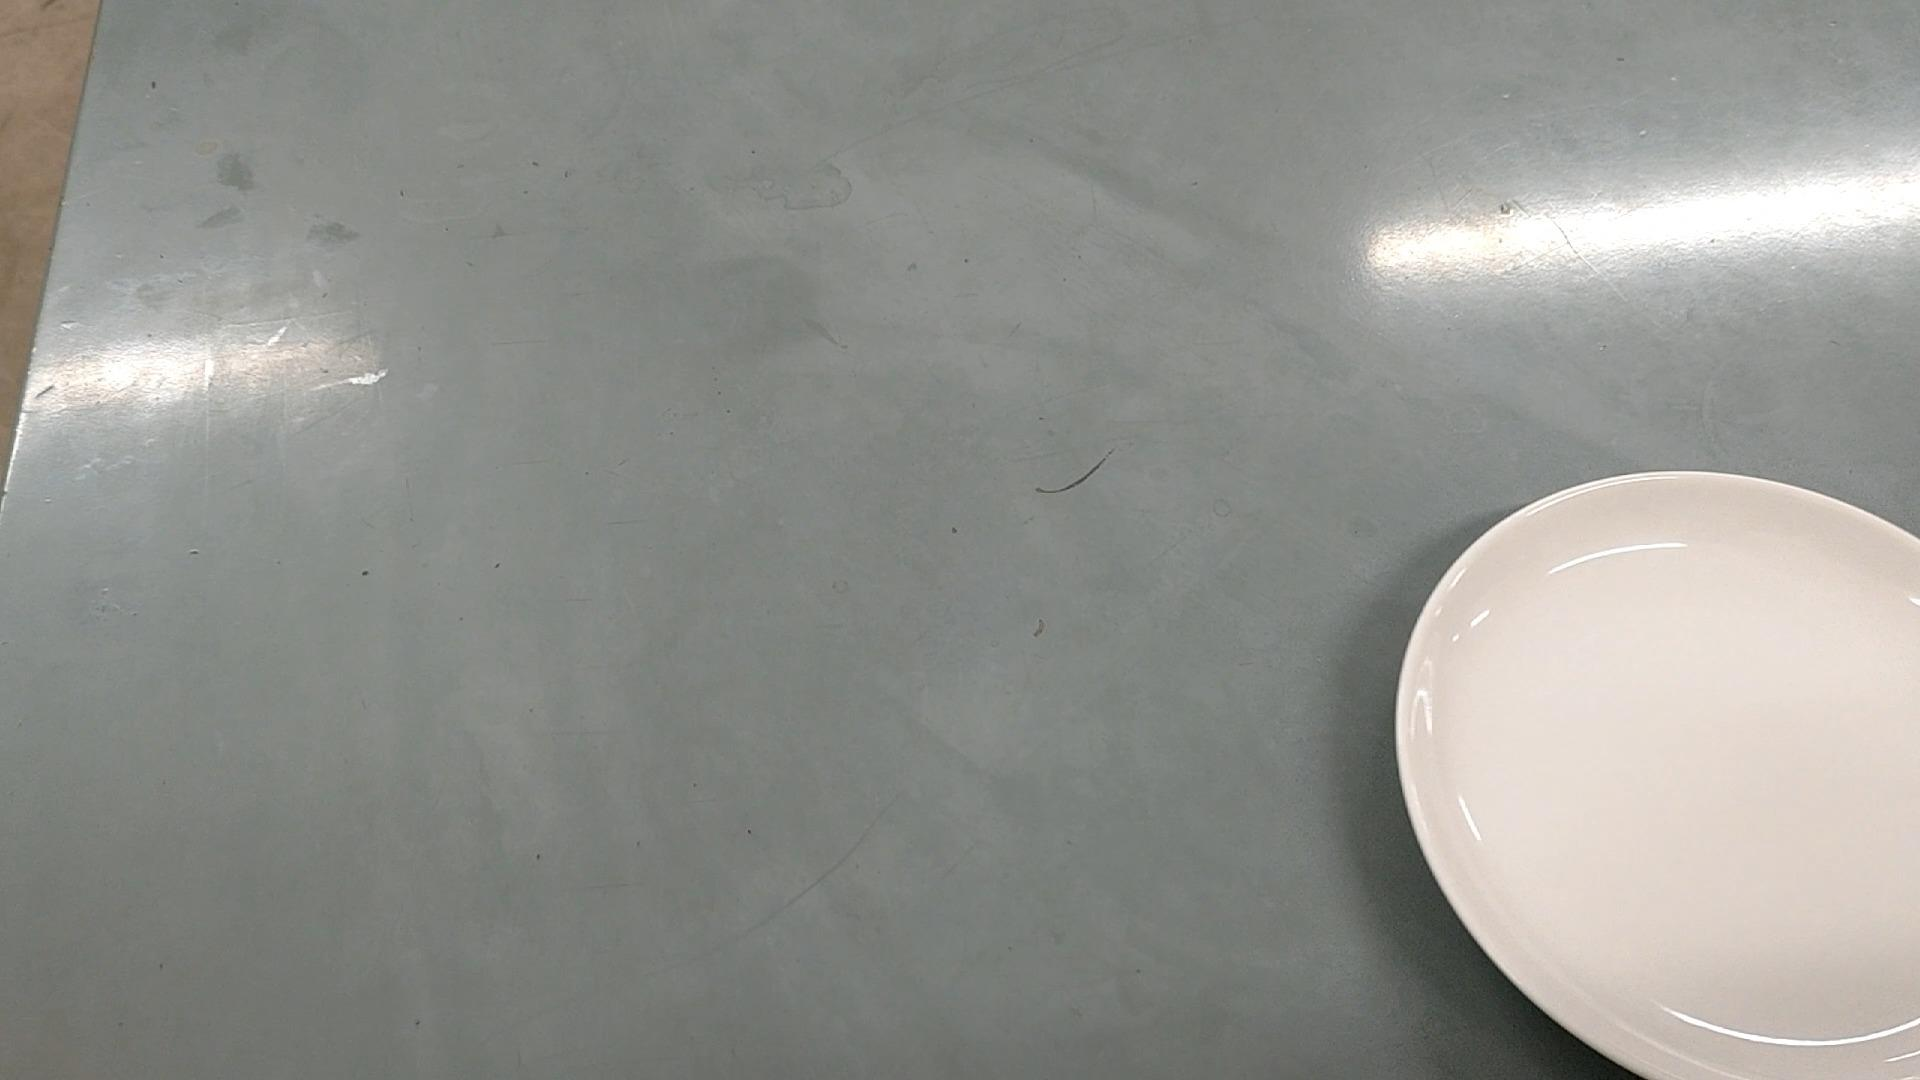plate: (1403, 468, 1920, 1080)
